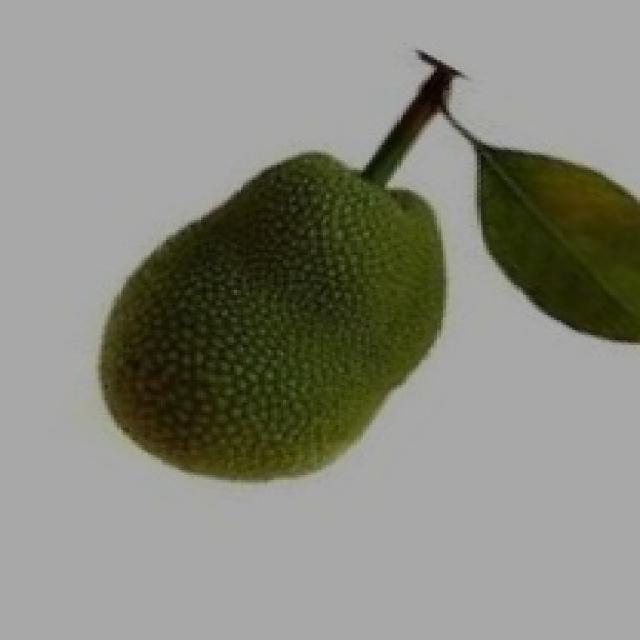Fruit: (77, 130, 474, 500)
